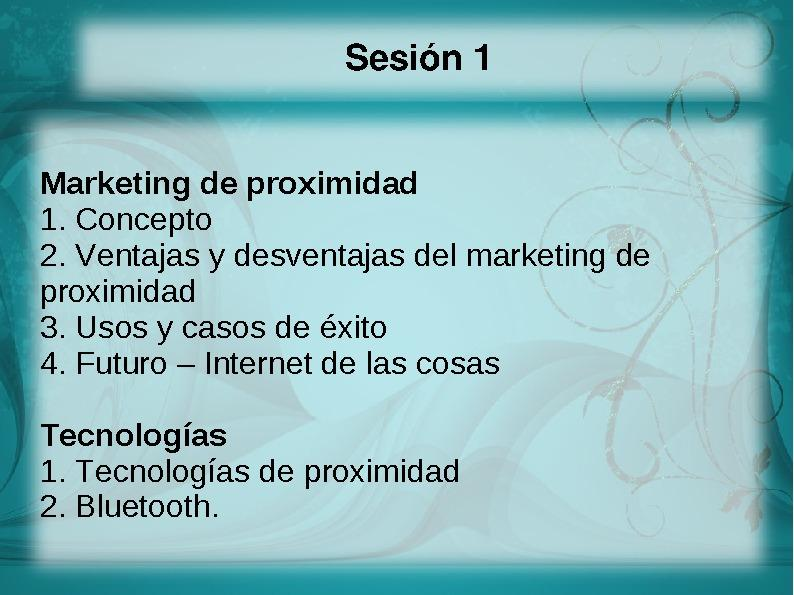paragraph: (17, 154, 761, 522)
title: (341, 27, 502, 87)
